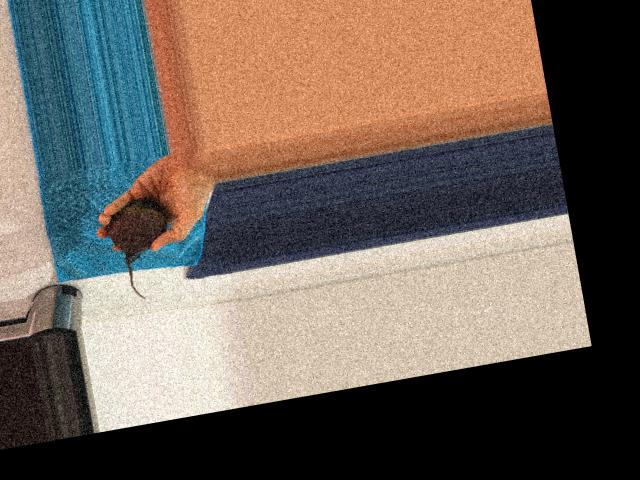beet: (102, 193, 178, 302)
